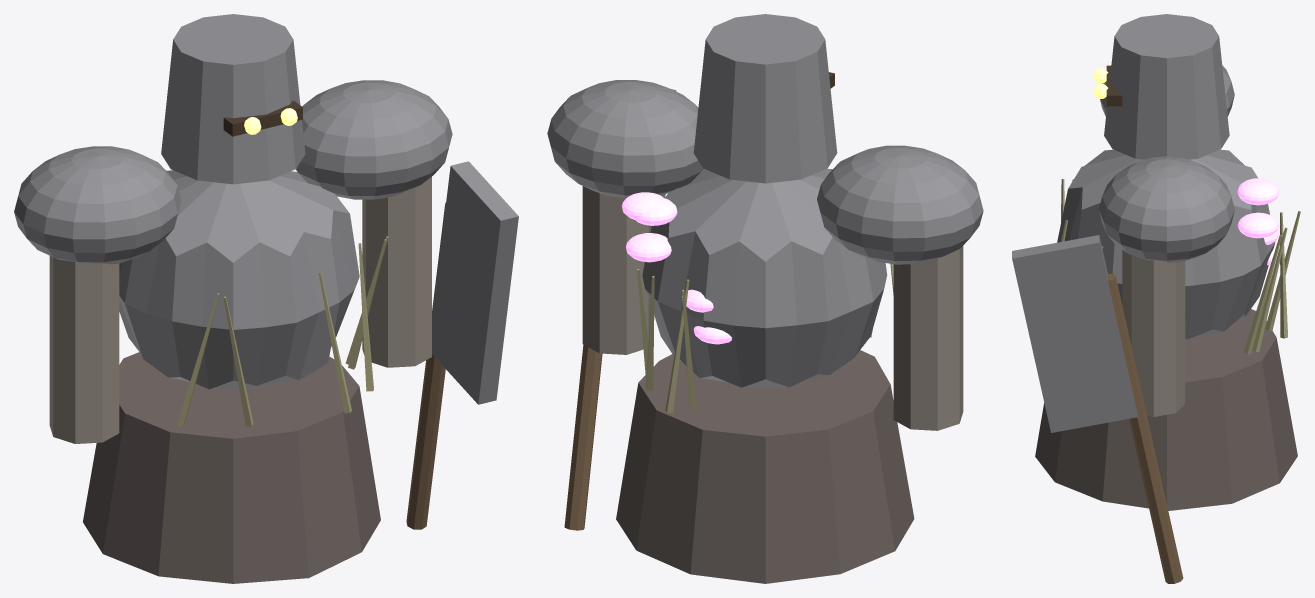
Rendered from bog_warden.glb.
3 views of the same model, side by side, from view 1: azimuth 30°, elevation 25°; view 2: azimuth 150°, elevation 25°; view 3: azimuth 270°, elevation 25° (orthographic). The views are drawn at different scales.
Parts seen in each view (by area): view 1: bog_warden; view 2: bog_warden; view 3: bog_warden.
Part boxes in pixels (x1=…): bog_warden: x1=14, y1=14, x2=518, y2=583; bog_warden: x1=547, y1=14, x2=983, y2=583; bog_warden: x1=1012, y1=14, x2=1300, y2=583.
Size of the model in its own units: 1.61 by 1.96 by 1.1.
